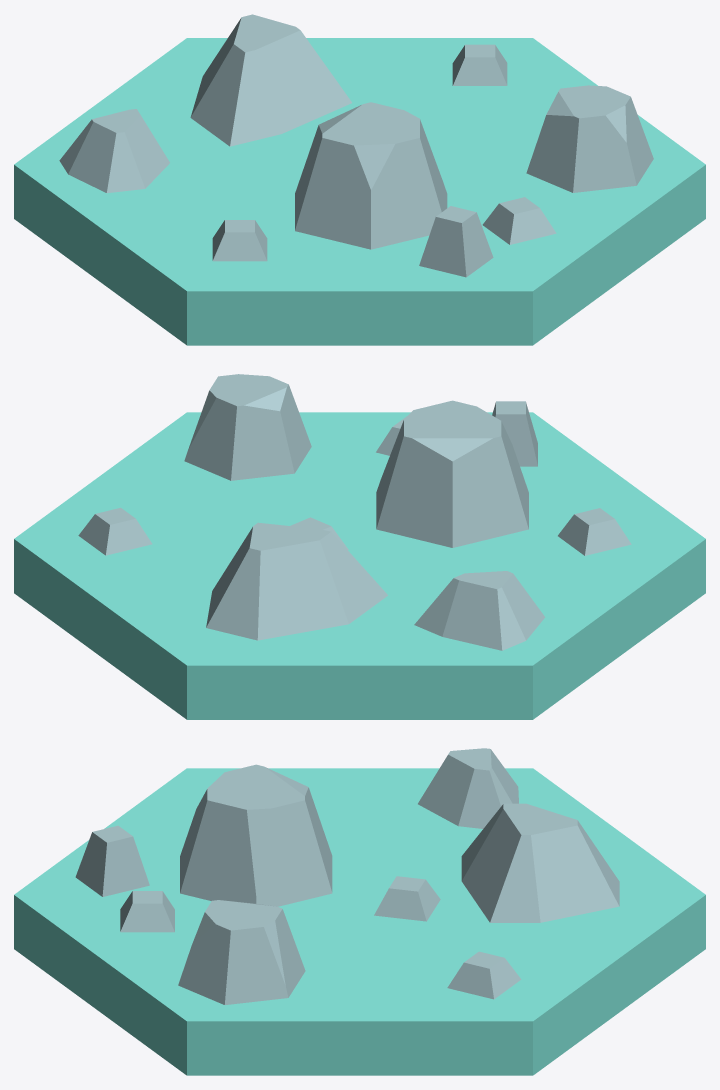
Rendered from water_rocks.dae.
3 views of the same model, one above another, from view 1: azimuth 30°, elevation 25°; view 2: azimuth 150°, elevation 25°; view 3: azimuth 270°, elevation 25° (orthographic).
Parts seen in each view (by area): view 1: water_rocks, rockLarge (×4), rock (×4); view 2: water_rocks, rockLarge (×4), rock (×3); view 3: water_rocks, rockLarge (×4), rock (×4).
Boxes of the visible parts, x1=… form: water_rocks: x1=14, y1=38, x2=705, y2=345; rockLarge (×4): x1=59, y1=14, x2=653, y2=249; rock (×4): x1=212, y1=44, x2=556, y2=277; water_rocks: x1=14, y1=412, x2=705, y2=719; rockLarge (×4): x1=184, y1=374, x2=545, y2=650; rock (×3): x1=78, y1=401, x2=631, y2=555; water_rocks: x1=14, y1=768, x2=705, y2=1075; rockLarge (×4): x1=178, y1=748, x2=619, y2=1004; rock (×4): x1=75, y1=825, x2=521, y2=999.
Bounding box in the file's own units: 1 × 0.2593 × 1.15.
